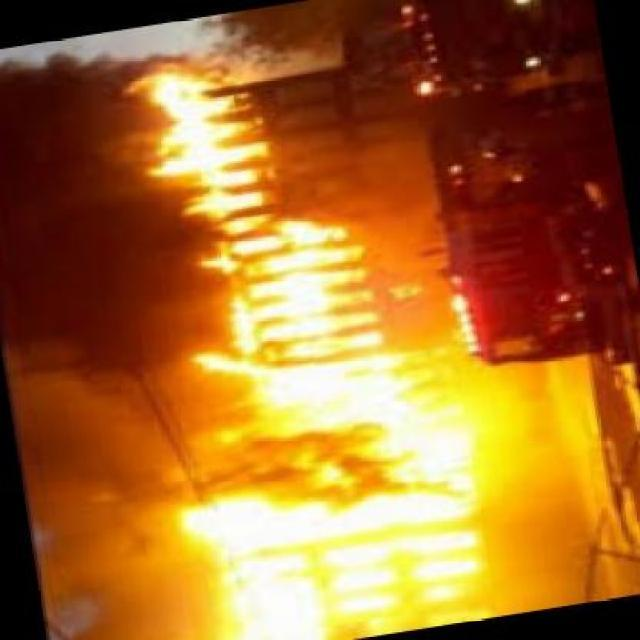Fire: (177, 51, 478, 636)
Smoke: (0, 51, 170, 362), (22, 370, 180, 634)
